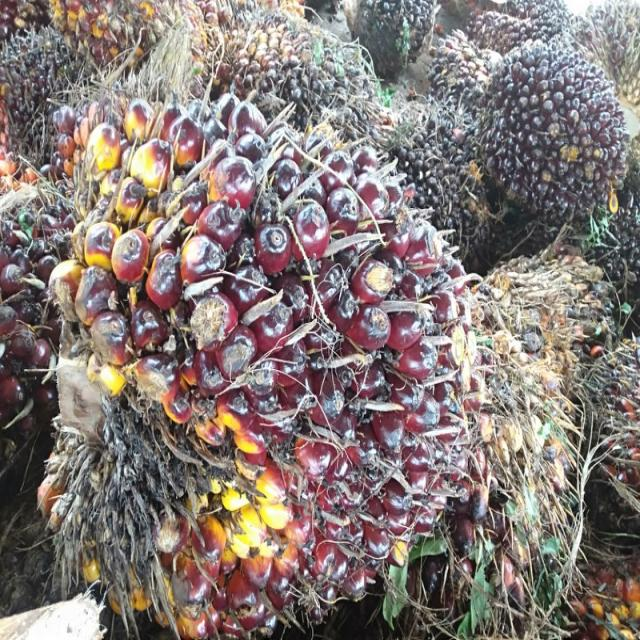fraksi 1: (80, 92, 483, 635)
